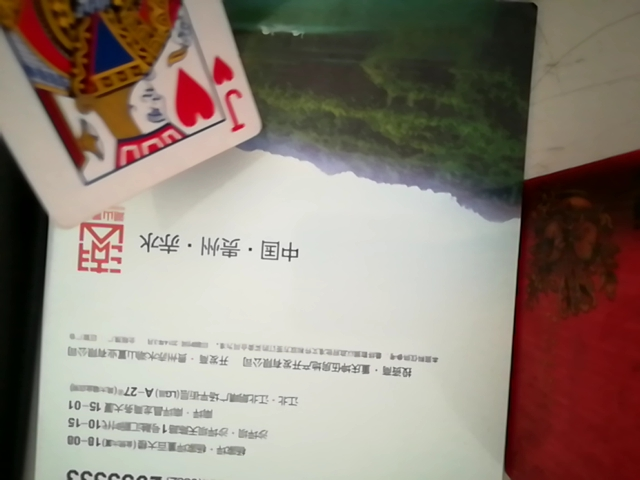hx j: (2, 1, 265, 258)
